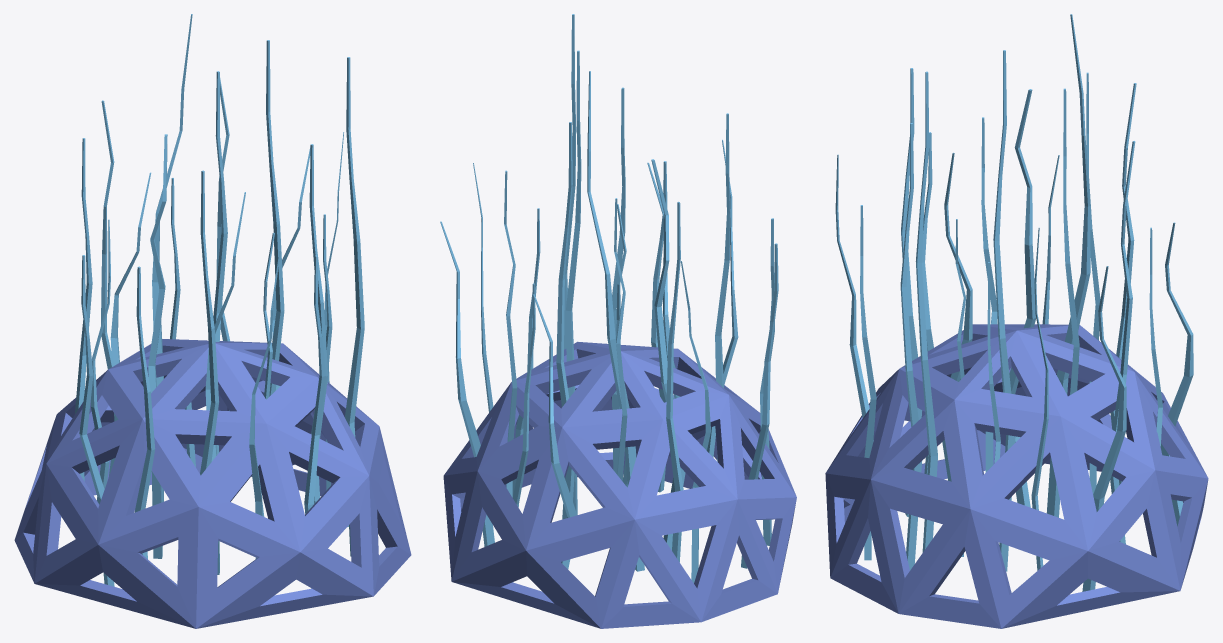
The model's file is AO_Plant07.fbx.
3 renders of one model, left to right at view 1: azimuth 30°, elevation 25°; view 2: azimuth 150°, elevation 25°; view 3: azimuth 270°, elevation 25°, orthographic. The views are drawn at different scales.
Visible parts, largest first — view 1: AO_Plant07; view 2: AO_Plant07; view 3: AO_Plant07.
Boxes of the visible parts, x1,y1,x2,y2 form: AO_Plant07: [14, 14, 411, 628]; AO_Plant07: [440, 14, 796, 628]; AO_Plant07: [825, 14, 1208, 628].
Size of the model in its own units: 62.07 by 88.98 by 58.2.
Materials: 1 (1 with a texture image).
